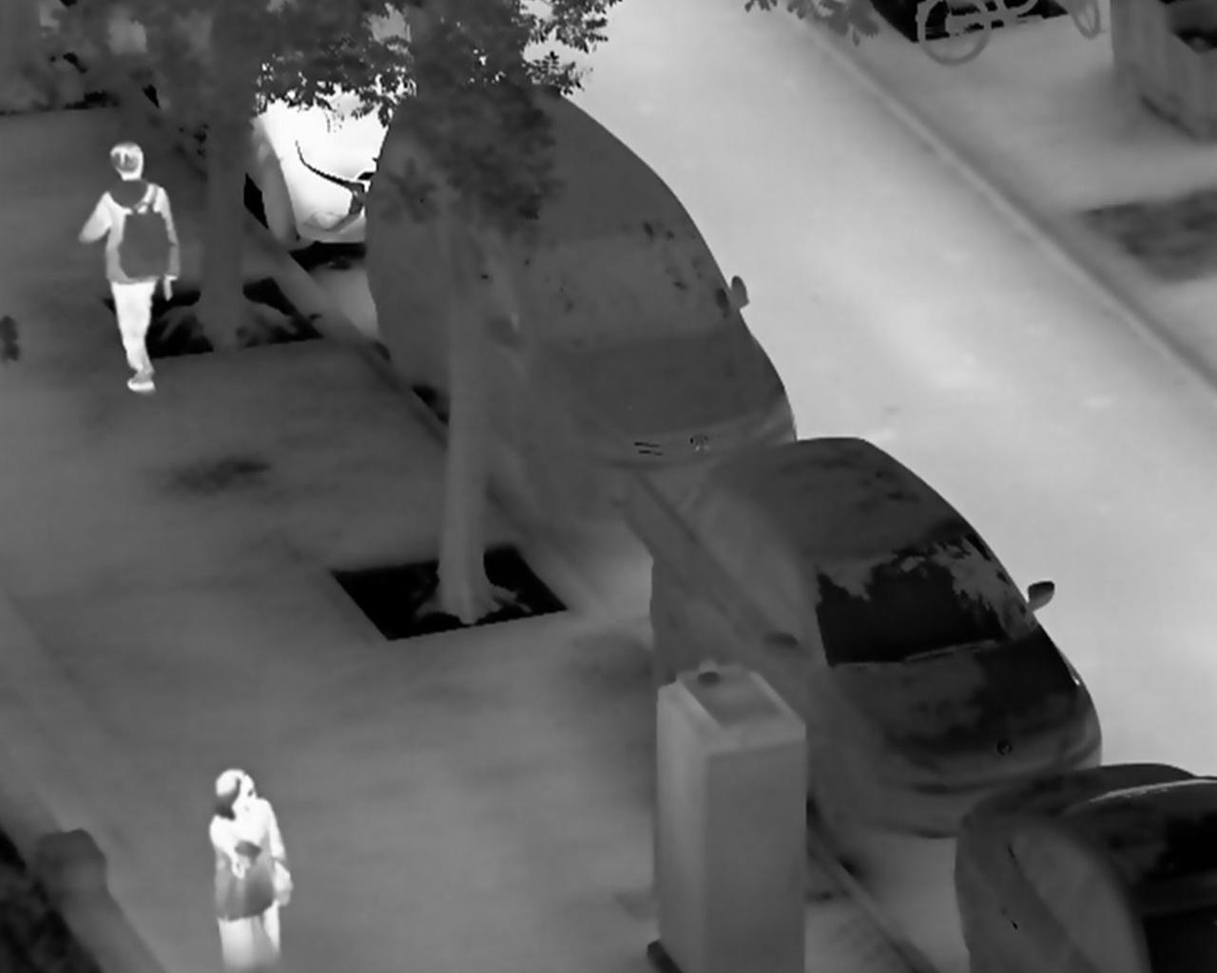person: (75, 137, 183, 401), (205, 766, 294, 973)
